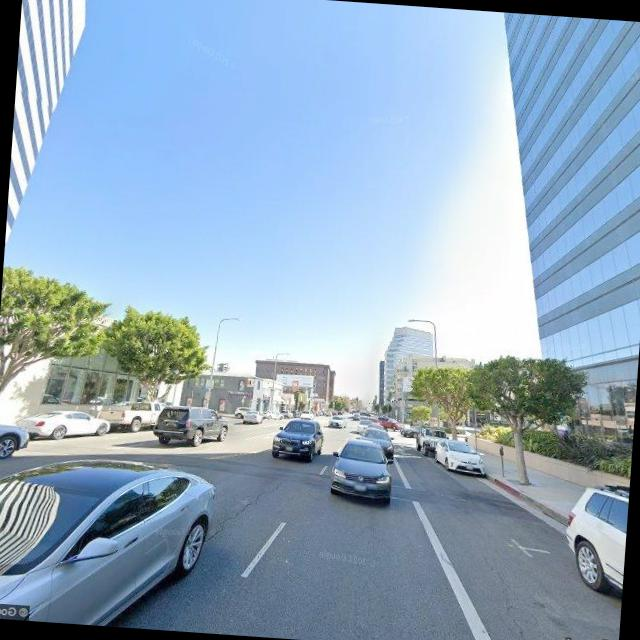pothole: (205, 474, 286, 553)
